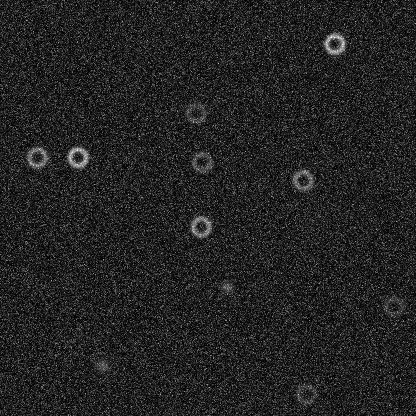Ring: (322, 31, 346, 55), (183, 101, 207, 125), (381, 294, 405, 318), (25, 145, 49, 169), (65, 145, 89, 169), (294, 381, 318, 405), (290, 168, 314, 192), (189, 149, 213, 173), (188, 214, 212, 238)
Spot: (219, 279, 235, 295), (94, 357, 110, 373)
